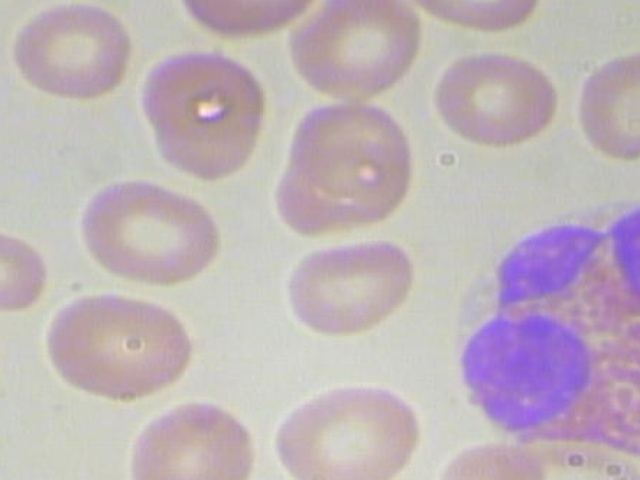RBC: (130, 45, 278, 184), (72, 172, 232, 298), (42, 287, 203, 404), (270, 372, 430, 480), (274, 0, 425, 107), (279, 233, 424, 341), (423, 48, 568, 156), (105, 392, 265, 480), (9, 0, 138, 108), (560, 45, 640, 162), (397, 0, 542, 38), (0, 220, 51, 315), (0, 298, 5, 411)
WBC: (430, 195, 640, 456)
